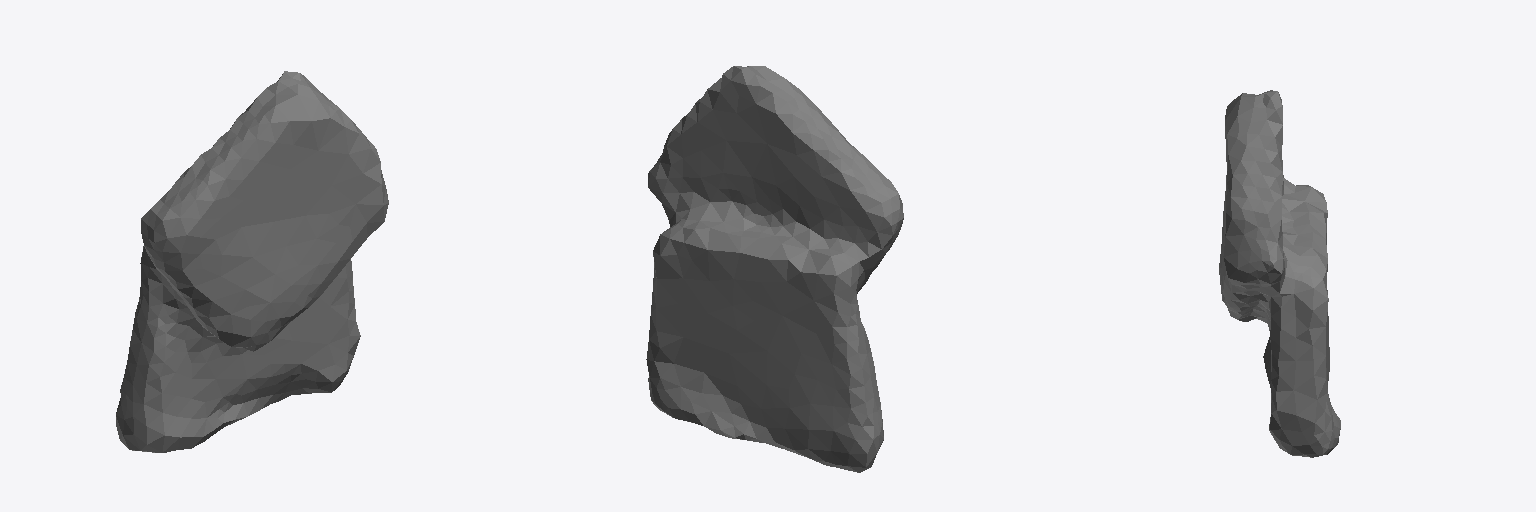
Rendered from StonePlatform_C.obj.
The picture shows the model from 3 angles: view 1: azimuth 30°, elevation 25°; view 2: azimuth 150°, elevation 25°; view 3: azimuth 270°, elevation 25°; orthographic projection.
Parts seen in each view (by area): view 1: Stone_C; view 2: Stone_C; view 3: Stone_C.
Boxes of the visible parts, x1,y1,x2,y2 form: Stone_C: [116, 71, 388, 452]; Stone_C: [646, 66, 903, 472]; Stone_C: [1219, 90, 1340, 457].
Bounding box in the file's own units: 14.46 × 20.11 × 6.23.